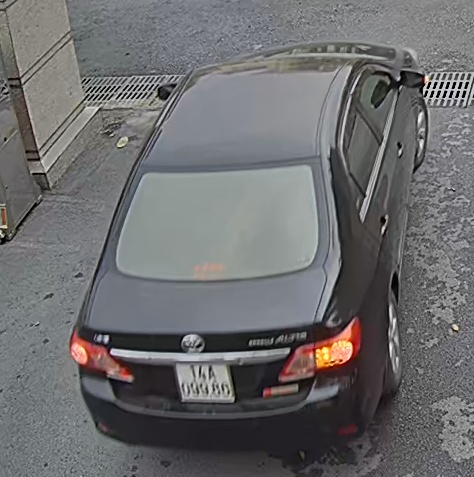vehicle plate: (173, 359, 236, 402)
